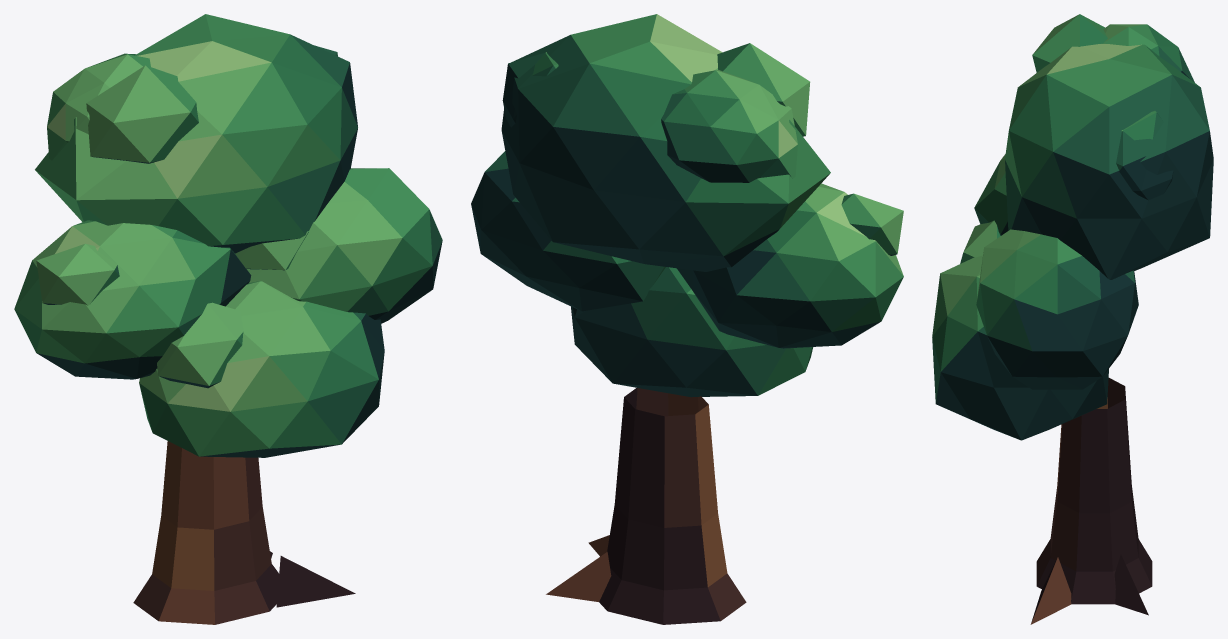
The model's file is tree_tree20.glb.
3 renders of one model, left to right at view 1: azimuth 30°, elevation 25°; view 2: azimuth 150°, elevation 25°; view 3: azimuth 270°, elevation 25°, orthographic. The views are drawn at different scales.
Visible parts, largest first — view 1: tree20; view 2: tree20; view 3: tree20.
Part boxes in pixels (x1,y1,x2,y2): tree20: (14, 14, 442, 624); tree20: (471, 14, 903, 624); tree20: (932, 14, 1213, 624).
Bounding box in the file's own units: 1.08 × 1.44 × 0.6978.
